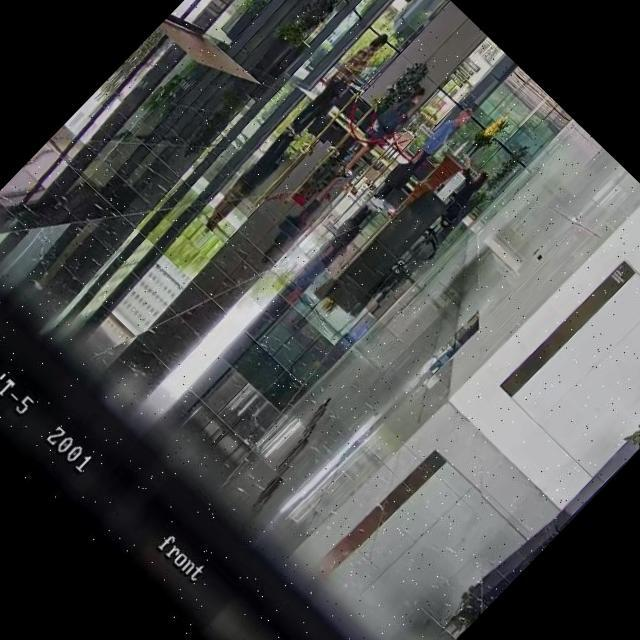person: (368, 95, 481, 210), (284, 27, 396, 141), (332, 78, 432, 180), (429, 156, 494, 221)
